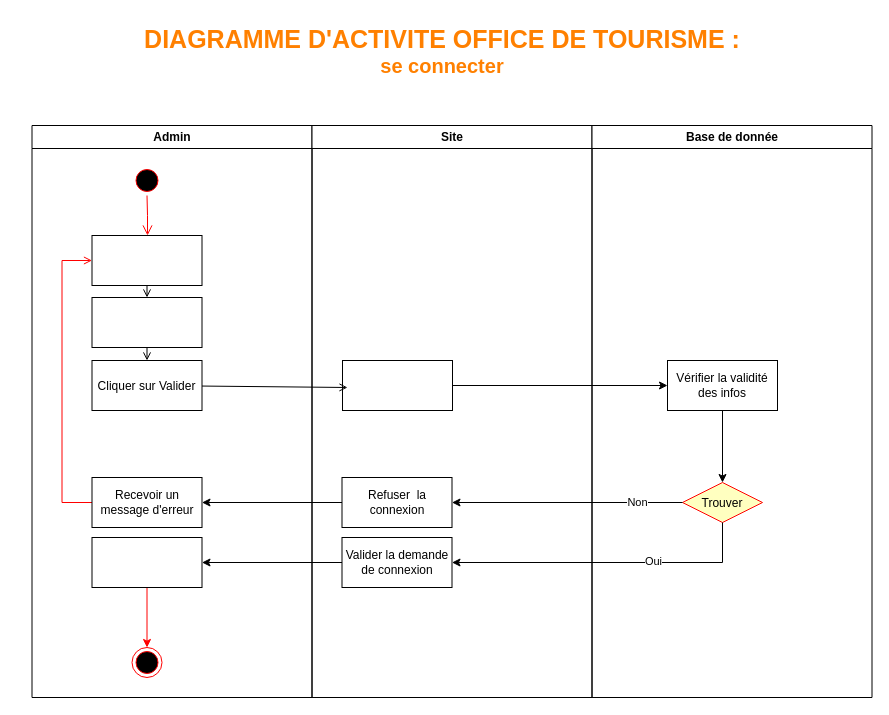
This 889x715 diagram has some shape labels left out. The centre of each missing label's shape, as x and y in pixels:
Afficher la page admin: [146,562]
Cliquer sur l'onglet se connecter: [146,260]
Renseigner l'id et le mot de passe: [146,322]
Transmer les infos à la base de donnée: [397,385]
